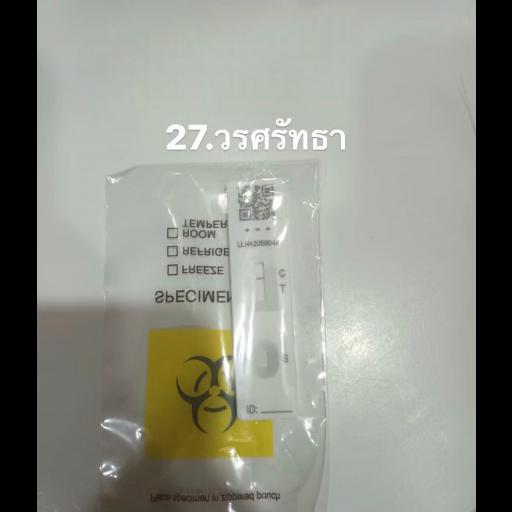Neg: (226, 178, 298, 421)
